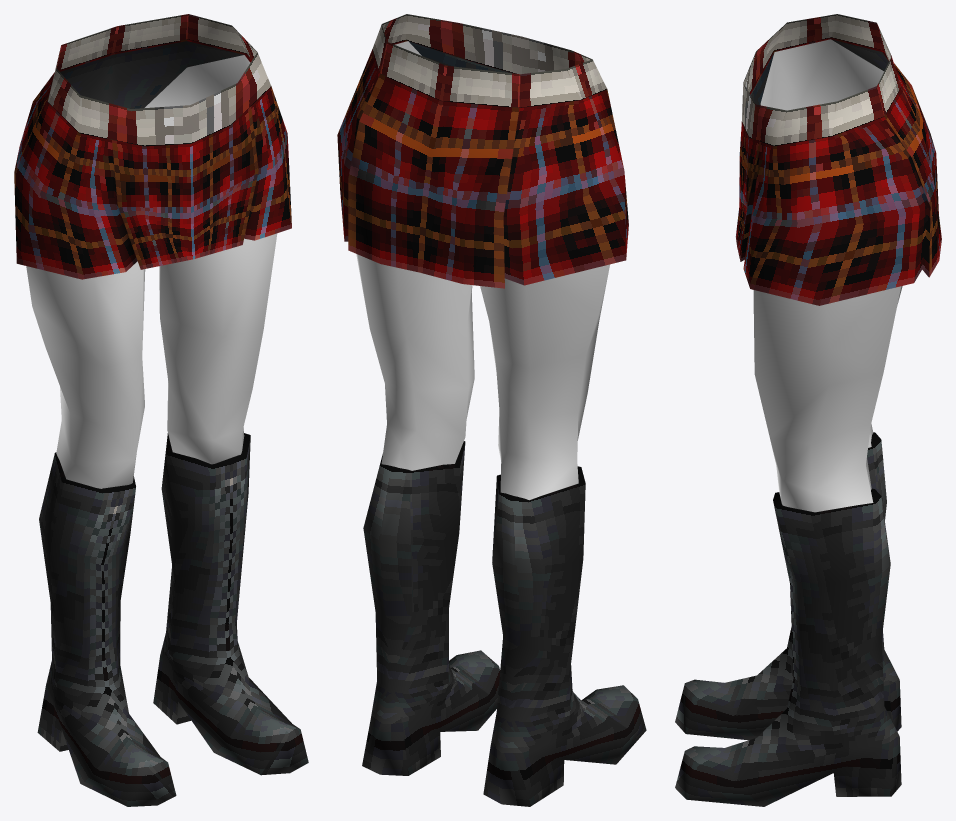
File: f_reg142.glb
3 views of the same model, side by side, from view 1: azimuth 30°, elevation 25°; view 2: azimuth 150°, elevation 25°; view 3: azimuth 270°, elevation 25° (orthographic). The views are drawn at different scales.
Size of the model in its own units: 45.57 by 110 by 37.92.
2 materials, 1 textured.
